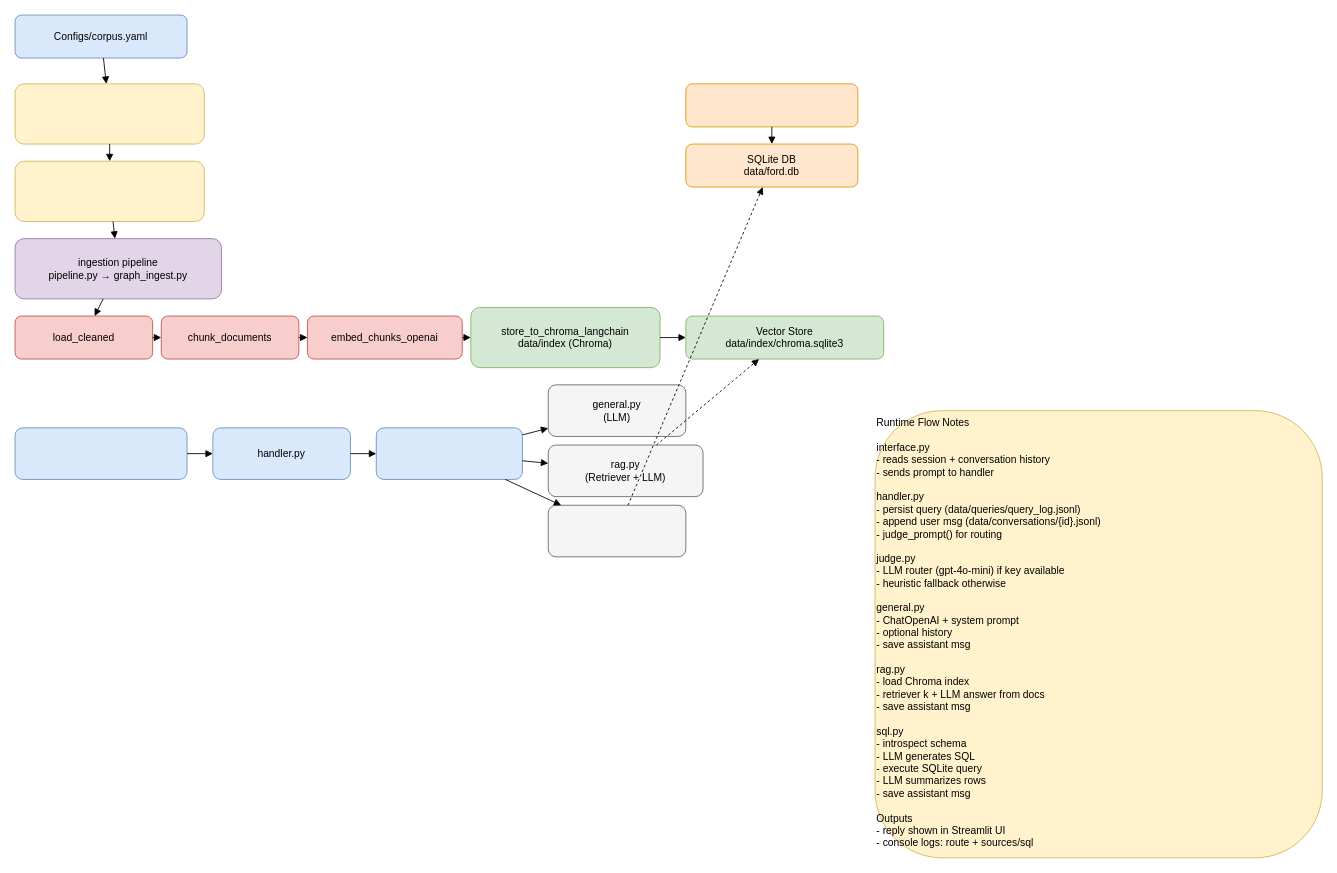
This 1337x873 diagram has some shape labels left out. Here are the shapes that lost their labels. From the top down, the centre of each, then its label:
the point at 109,113: extract_ford.py data/input/crawlinfo.jsonl
the point at 771,105: generate_ford_db.py
the point at 109,190: transform_ford.py data/clean/cleaned.jsonl
the point at 100,453: Streamlit UI interface.py
the point at 448,453: judge.py (LLM routing)
the point at 616,530: sql.py (SQL + LLM)
